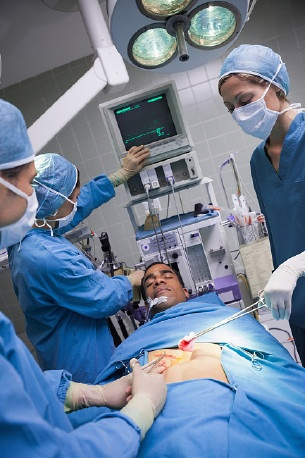Mask: (223, 86, 277, 140)
